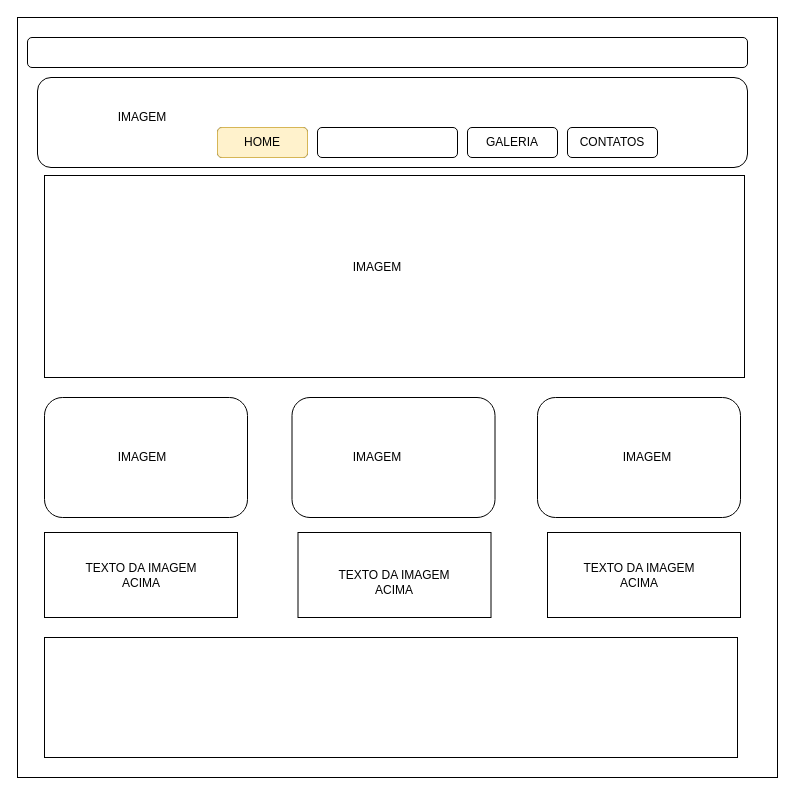
The diagram is 795 pixels wide and 795 high, and some of its shapes have lost their labels. The shapes that lost their labels are listed below. From the top down, each one's box as (x1, y1, x2, y2) in pixels, then its label:
(316, 126, 458, 158): ART & SUSTENTAB
(44, 636, 738, 758): RODA_PÉ INFORMAÇÕE GERAIS
